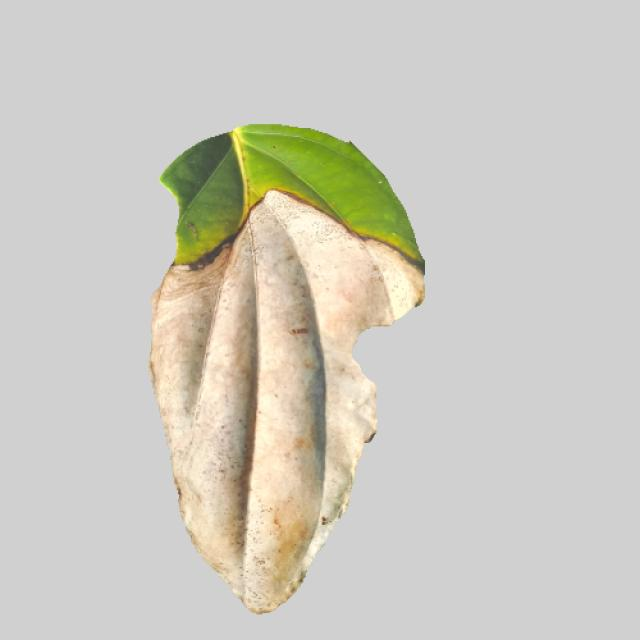leaf-blight: (130, 126, 428, 606)
